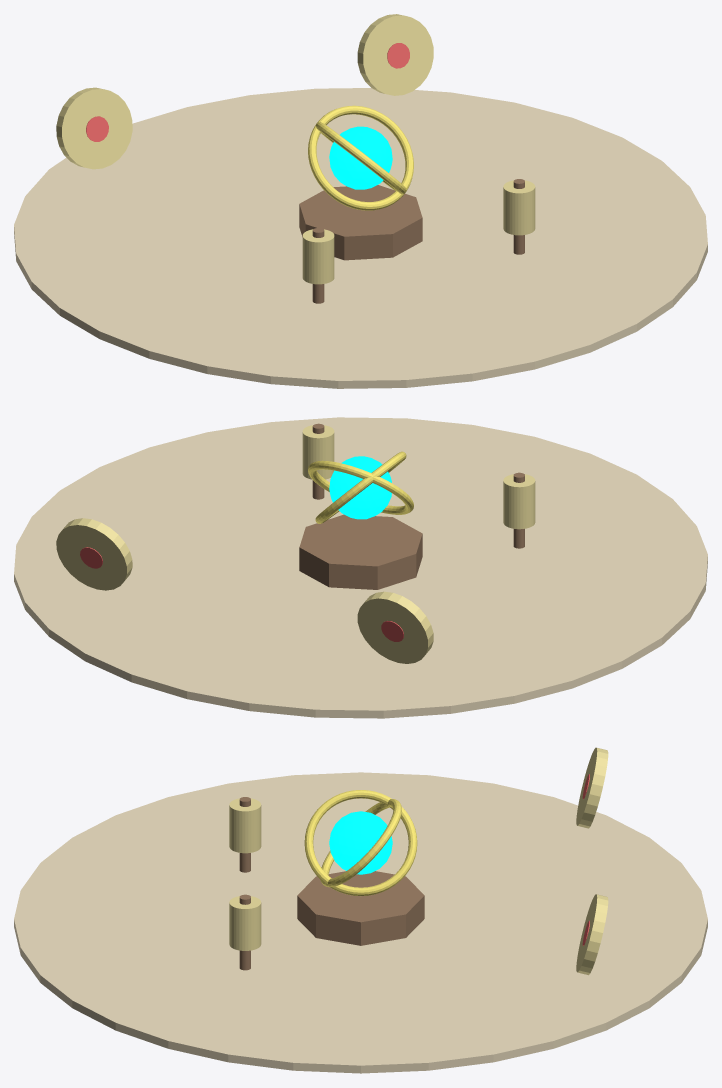
File: Arena_Entrenamiento_Spectacular.fbx
3 renders of one model, top to bottom at view 1: azimuth 30°, elevation 25°; view 2: azimuth 150°, elevation 25°; view 3: azimuth 270°, elevation 25°, orthographic.
Visible parts, largest first — view 1: Sand_Arena_Plate, Pedestal_Base, Archery_Target_1, Archery_Target_2, Armillary_Ring_1, Floating_Mana_Orb, Dummy_Body_1, Dummy_Body_2, Armillary_Ring_2; view 2: Sand_Arena_Plate, Pedestal_Base, Archery_Target_2, Archery_Target_1, Floating_Mana_Orb, Dummy_Body_1, Armillary_Ring_1, Dummy_Body_2, Armillary_Ring_2; view 3: Sand_Arena_Plate, Pedestal_Base, Floating_Mana_Orb, Armillary_Ring_2, Dummy_Body_1, Dummy_Body_2, Archery_Target_1, Archery_Target_2, Armillary_Ring_1.
Boxes of the visible parts, x1,y1,x2,y2 form: Sand_Arena_Plate: (14, 88, 707, 388); Pedestal_Base: (299, 185, 422, 260); Archery_Target_1: (56, 87, 132, 169); Archery_Target_2: (357, 14, 433, 95); Armillary_Ring_1: (308, 105, 413, 210); Floating_Mana_Orb: (329, 126, 392, 189); Dummy_Body_1: (302, 229, 334, 284); Dummy_Body_2: (503, 180, 535, 235); Armillary_Ring_2: (316, 122, 406, 194); Sand_Arena_Plate: (14, 417, 707, 718); Pedestal_Base: (299, 514, 422, 589); Archery_Target_2: (56, 518, 132, 590); Archery_Target_1: (357, 591, 433, 663); Floating_Mana_Orb: (329, 456, 391, 519); Dummy_Body_1: (503, 474, 535, 529); Armillary_Ring_1: (308, 460, 413, 514); Dummy_Body_2: (302, 425, 334, 479); Armillary_Ring_2: (315, 451, 406, 523); Sand_Arena_Plate: (14, 772, 707, 1073); Pedestal_Base: (297, 871, 424, 945); Floating_Mana_Orb: (329, 811, 392, 874); Armillary_Ring_2: (304, 790, 417, 896); Dummy_Body_1: (229, 798, 261, 853); Dummy_Body_2: (229, 896, 261, 950); Archery_Target_1: (576, 747, 608, 828); Archery_Target_2: (576, 894, 608, 975); Armillary_Ring_1: (320, 799, 401, 887).
Bounding box in the file's own units: 2400 × 462 × 2400.
